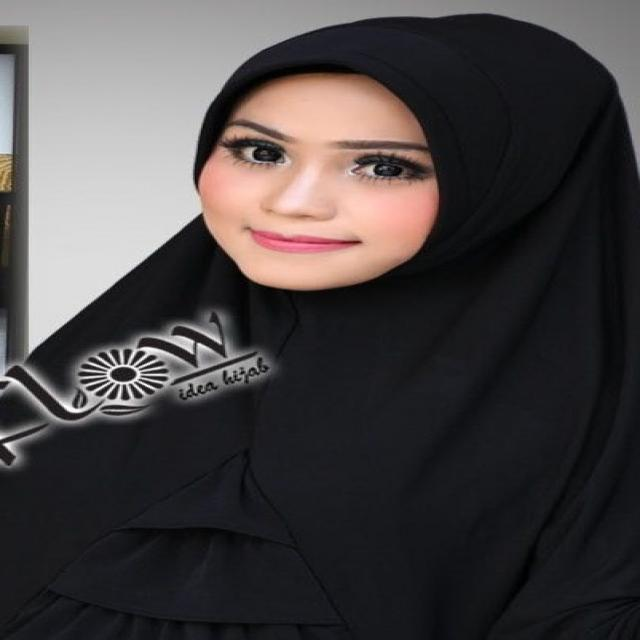head: (191, 17, 513, 295)
